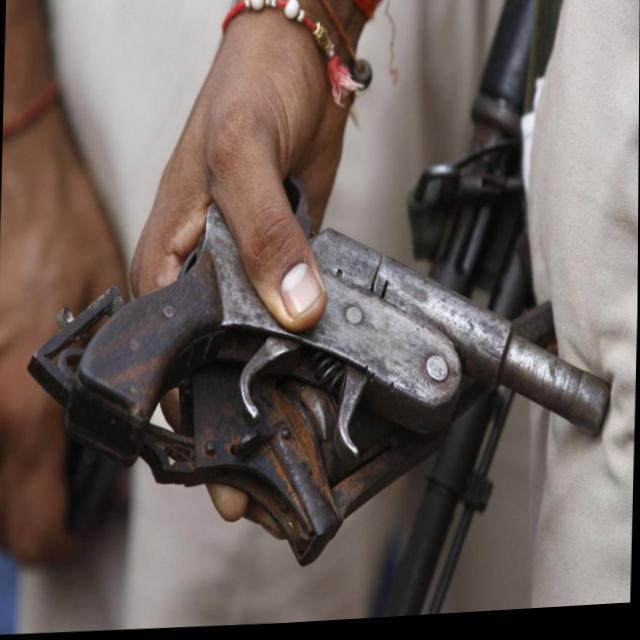weapon: (13, 76, 624, 598)
